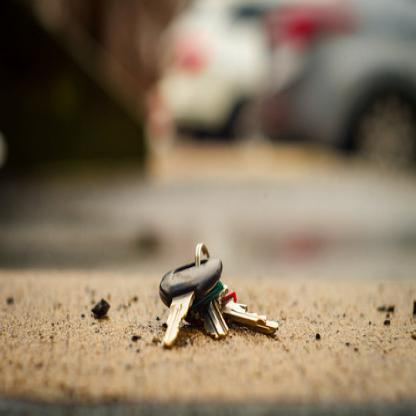keys: (159, 254, 279, 348)
